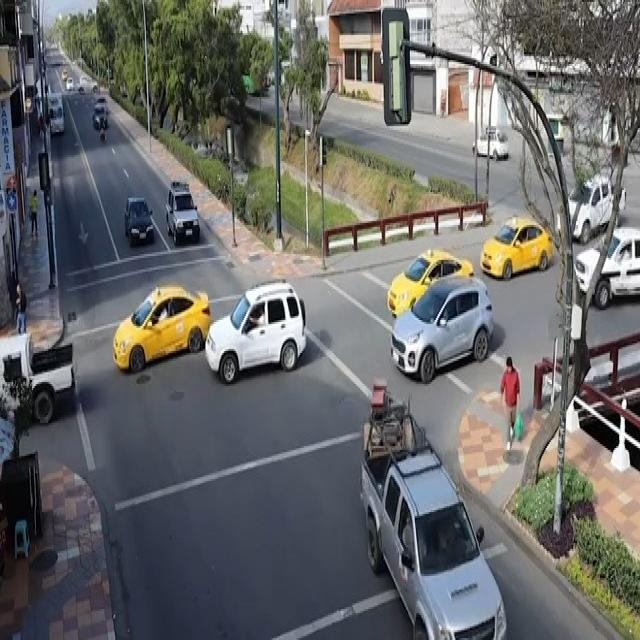CMT: (356, 401, 504, 640), (0, 332, 75, 430), (572, 230, 638, 310), (564, 178, 623, 240)
SED: (387, 274, 498, 385), (204, 278, 310, 387), (110, 279, 212, 374), (478, 215, 554, 280), (161, 182, 202, 249), (123, 194, 155, 249)
